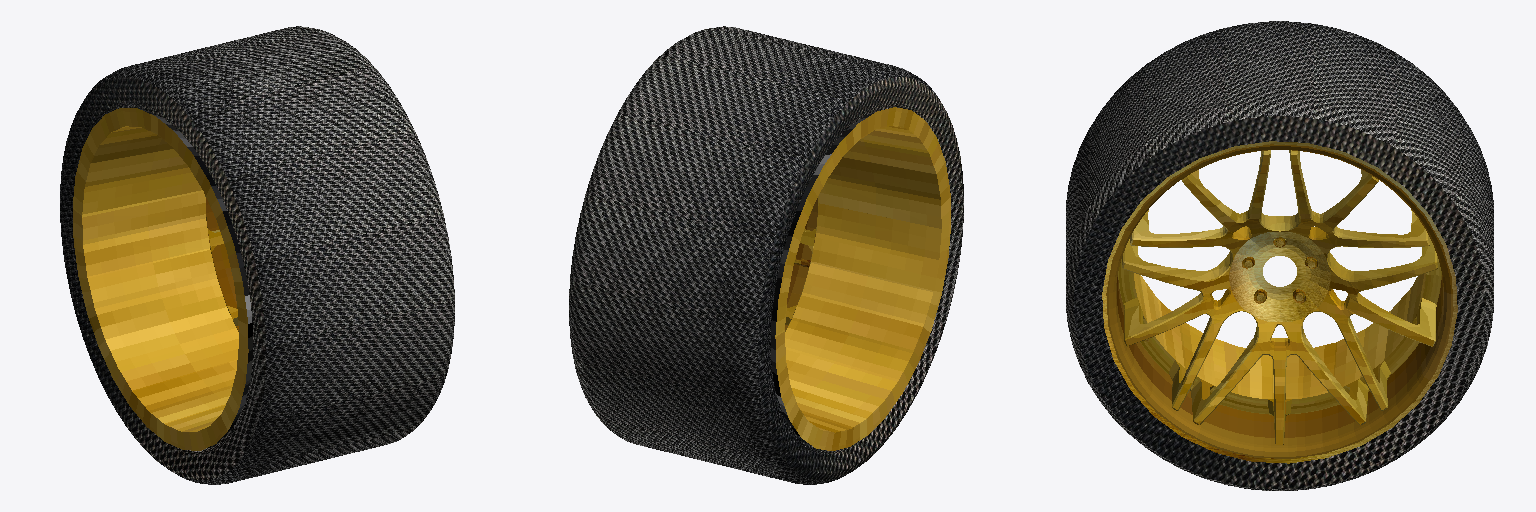
3 renders of one model, left to right at view 1: azimuth 30°, elevation 25°; view 2: azimuth 150°, elevation 25°; view 3: azimuth 270°, elevation 25°, orthographic.
Visible parts, largest first — view 1: Llanta2, Rin3; view 2: Llanta2, Rin3; view 3: Llanta2, Rin3.
Boxes of the visible parts, <box> form: Llanta2: <box>60,26,454,484</box>; Rin3: <box>73,108,248,450</box>; Llanta2: <box>569,26,963,484</box>; Rin3: <box>775,107,950,450</box>; Llanta2: <box>1066,21,1493,490</box>; Rin3: <box>1102,141,1457,463</box>.
Size of the model in its own units: 2.93 by 5.66 by 5.66.
Materials: 2 (2 with a texture image).